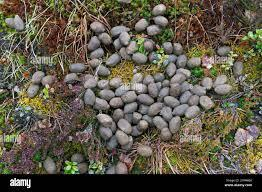Elk: (99, 39, 201, 126)
